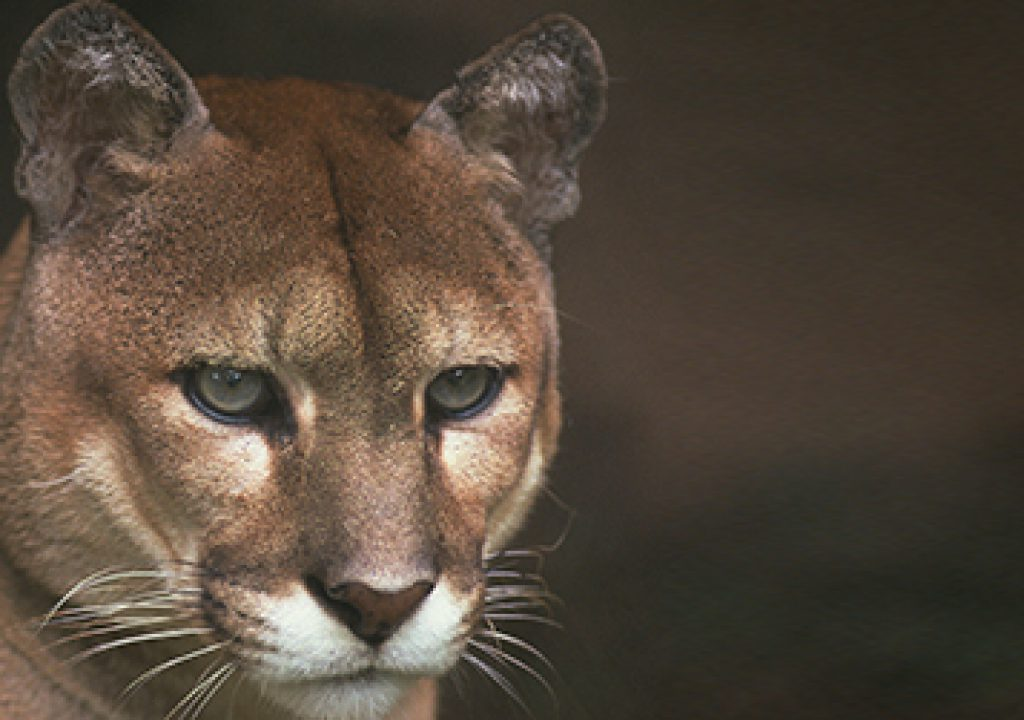OncaParda: (8, 0, 617, 703)
